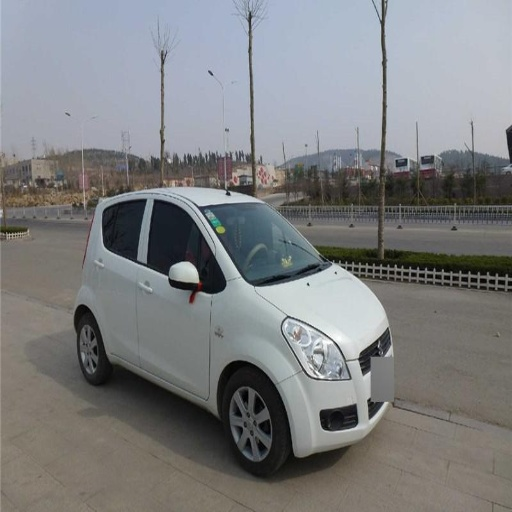front_bumper: (277, 329, 395, 454)
front_right_door: (138, 197, 221, 398)
front_right_light: (283, 318, 347, 380)
